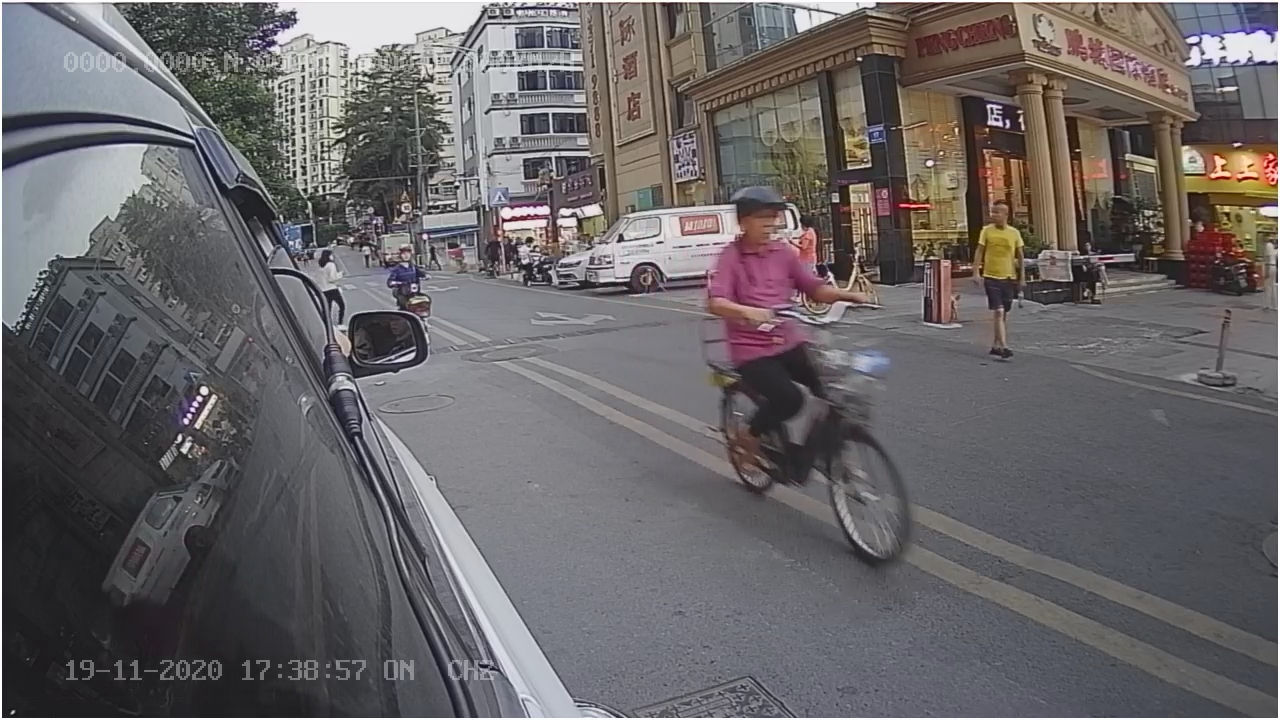person: (700, 191, 845, 377), (965, 194, 1030, 364)
